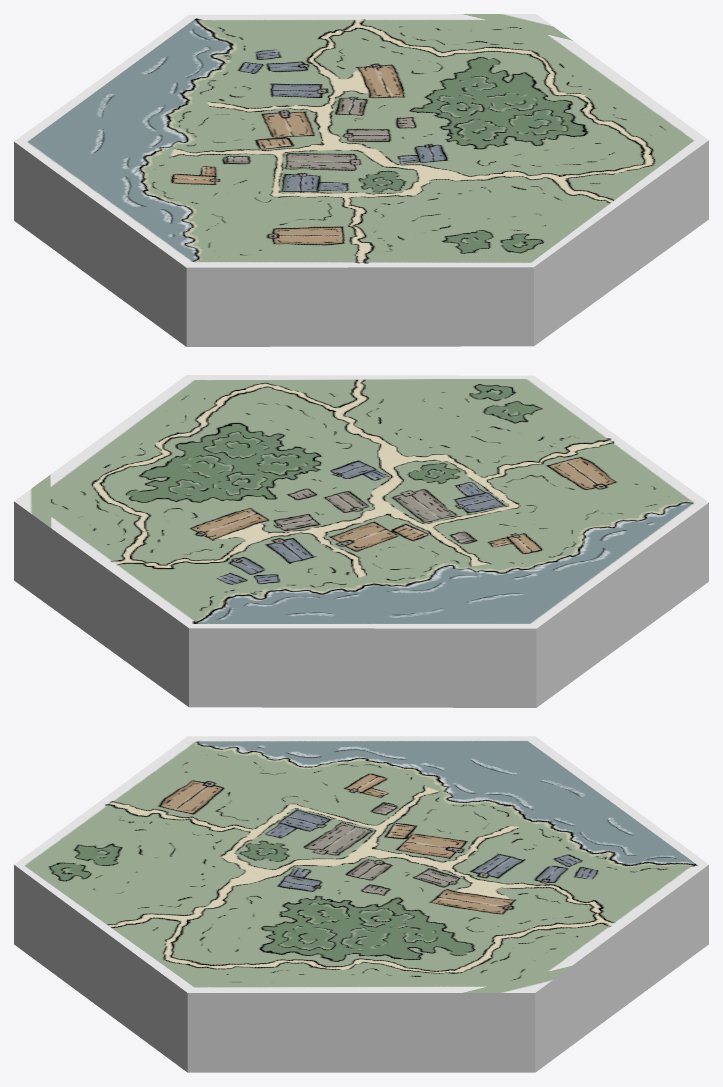
File: LRA04.glb
3 renders of one model, top to bottom at view 1: azimuth 30°, elevation 25°; view 2: azimuth 150°, elevation 25°; view 3: azimuth 270°, elevation 25°, orthographic.
Visible parts, largest first — view 1: Cylinder; view 2: Cylinder; view 3: Cylinder.
Boxes of the visible parts, <box> form: Cylinder: <box>14,14,708,346</box>; Cylinder: <box>14,375,708,707</box>; Cylinder: <box>14,736,708,1072</box>.
Bounding box in the file's own units: 1.73 × 0.2501 × 1.97.
3 materials, 2 textured.
